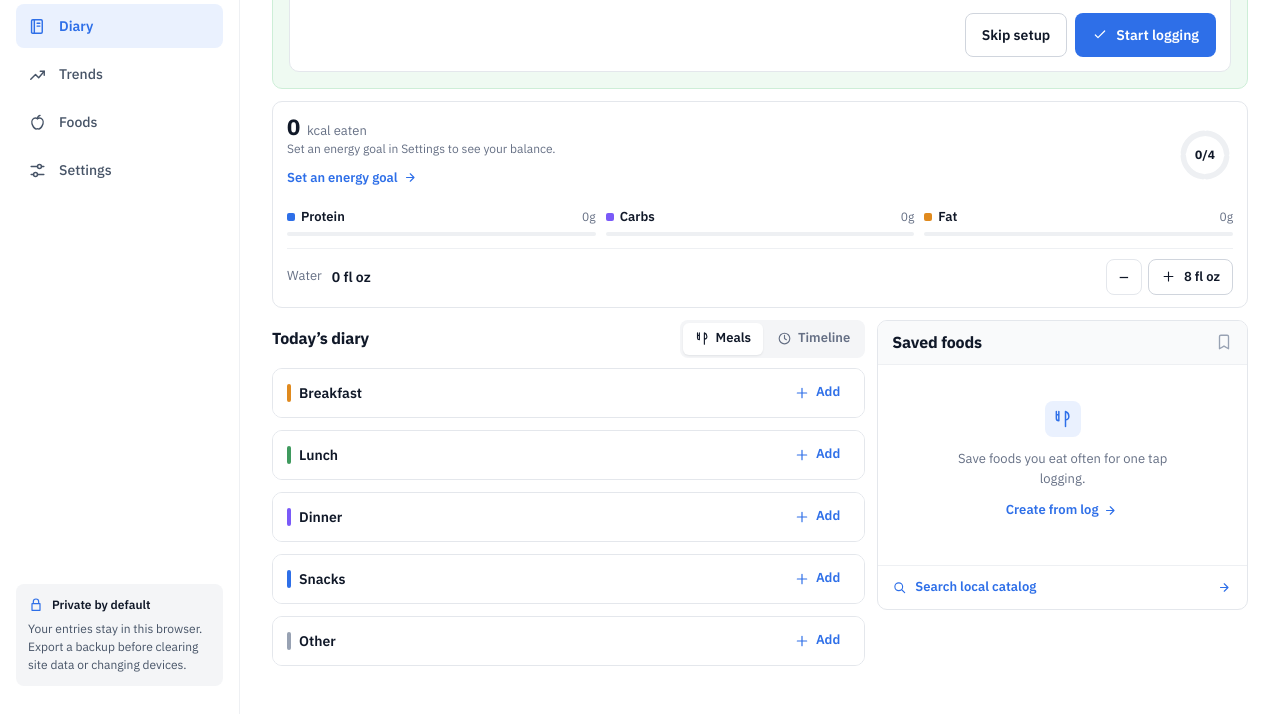
Scenario: diary add controls › keeps the per-meal Add buttons, one per meal, and one opens the Log food dialog
(page scrolled)
Click the button "Add" in the row of "Breakfast". click: x=817, y=393
box: [784, 375, 850, 411]
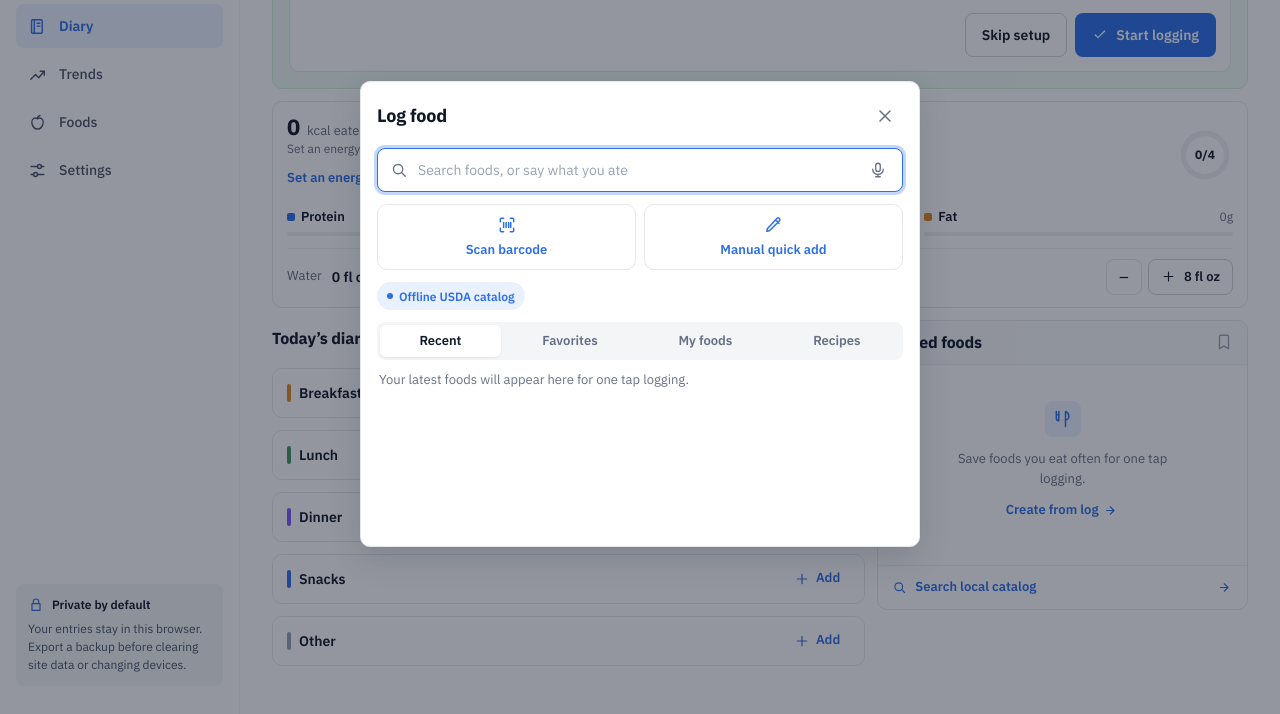
expect the dialog is shown: met, box [360, 81, 920, 547]
